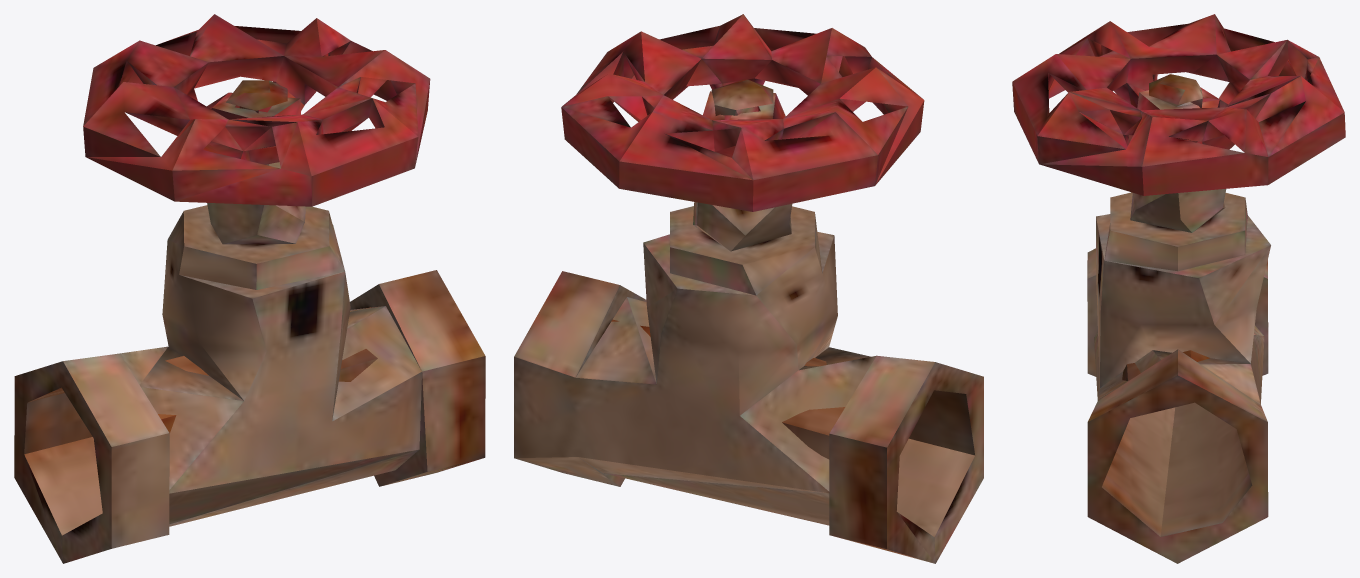
Rendered from small_copper_pipe_25.glb.
3 views of the same model, side by side, from view 1: azimuth 30°, elevation 25°; view 2: azimuth 150°, elevation 25°; view 3: azimuth 270°, elevation 25° (orthographic). The views are drawn at different scales.
Visible parts, largest first — view 1: small_copper_pipe_25; view 2: small_copper_pipe_25; view 3: small_copper_pipe_25.
Part boxes in pixels (x1,y1,x2,y2): small_copper_pipe_25: [14, 14, 485, 563]; small_copper_pipe_25: [514, 14, 983, 563]; small_copper_pipe_25: [1012, 14, 1345, 563].
Size of what is drawn, in the model's own units: 0.0505 by 0.0579 by 0.0419.
Materials: 1 (1 with a texture image).
